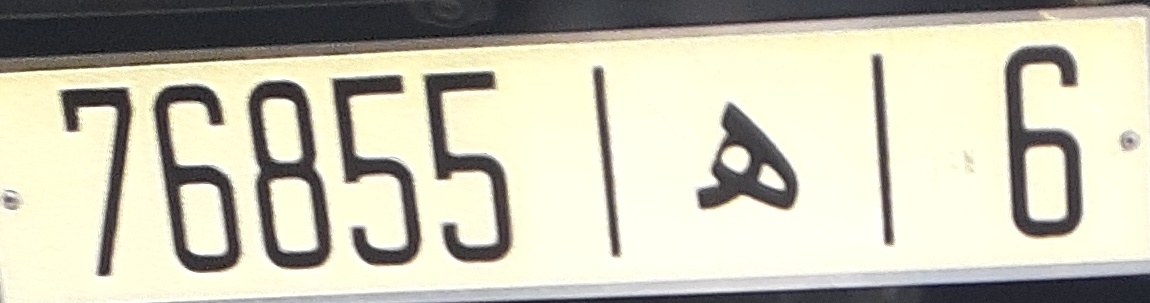5: (418, 65, 515, 265), (328, 69, 423, 267)
6: (997, 36, 1093, 239), (152, 75, 244, 277)
7: (54, 80, 136, 282)
8: (244, 76, 331, 274)
h: (682, 97, 812, 221)
